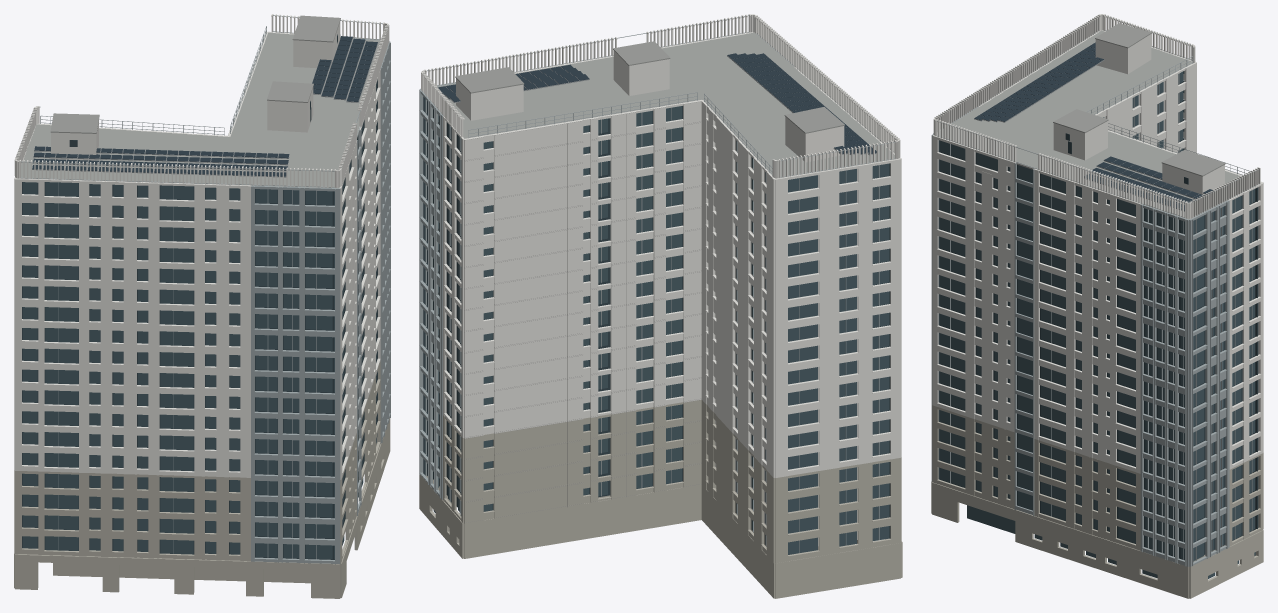
File: bespoke-maple-xi-203.glb
The picture shows the model from 3 angles, left to right: view 1: azimuth 30°, elevation 25°; view 2: azimuth 150°, elevation 25°; view 3: azimuth 270°, elevation 25°; orthographic projection. The views are drawn at different scales.
Visible parts, largest first — view 1: Maple203_203_inset_structural_body, Maple203_NE_plain_bedroom_glass, Maple203_203_ground_recessed_body, Maple203_NE_plain_bedroom_sash, Maple203_203_L_roof_slab, Maple203_NE_end_recess_back, Maple203_SW_long_PV_cells, Maple203_NW_core_horizontal_panel_joint, Maple203_SW_long_PV_frame; view 2: Maple203_203_inset_structural_body, Maple203_203_ground_recessed_body, Maple203_NE_plain_bedroom_glass, Maple203_203_L_roof_slab, Maple203_NE_plain_bedroom_sash, Maple203_NW_core_horizontal_panel_joint, Maple203_NE_end_recess_back, Maple203_SW_long_PV_cells; view 3: Maple203_203_inset_structural_body, Maple203_NE_plain_bedroom_glass, Maple203_NE_plain_bedroom_sash, Maple203_203_ground_recessed_body, Maple203_203_L_roof_slab, Maple203_NE_end_recess_back, Maple203_SW_long_PV_cells, Maple203_NW_core_horizontal_panel_joint, Maple203_SW_long_PV_frame.
Part boxes in pixels (box(x1,y1,x2,y2)): Maple203_203_inset_structural_body: box(14, 14, 389, 479); Maple203_NE_plain_bedroom_glass: box(22, 79, 377, 559); Maple203_203_ground_recessed_body: box(14, 361, 390, 598); Maple203_NE_plain_bedroom_sash: box(17, 15, 390, 564); Maple203_203_L_roof_slab: box(16, 32, 380, 188); Maple203_NE_end_recess_back: box(22, 34, 377, 559); Maple203_SW_long_PV_cells: box(32, 36, 377, 176); Maple203_NW_core_horizontal_panel_joint: box(50, 15, 340, 134); Maple203_SW_long_PV_frame: box(32, 34, 378, 177); Maple203_203_inset_structural_body: box(421, 14, 901, 546); Maple203_203_ground_recessed_body: box(419, 400, 902, 598); Maple203_NE_plain_bedroom_glass: box(427, 101, 889, 554); Maple203_203_L_roof_slab: box(437, 32, 899, 178); Maple203_NE_plain_bedroom_sash: box(419, 15, 897, 553); Maple203_NW_core_horizontal_panel_joint: box(455, 41, 844, 522); Maple203_NE_end_recess_back: box(423, 96, 890, 538); Maple203_SW_long_PV_cells: box(437, 53, 876, 154); Maple203_203_inset_structural_body: box(932, 14, 1263, 473); Maple203_NE_plain_bedroom_glass: box(939, 71, 1258, 578); Maple203_NE_plain_bedroom_sash: box(931, 15, 1258, 566); Maple203_203_ground_recessed_body: box(931, 405, 1263, 598); Maple203_203_L_roof_slab: box(934, 30, 1242, 219); Maple203_NE_end_recess_back: box(938, 133, 1257, 561); Maple203_SW_long_PV_cells: box(974, 42, 1213, 210); Maple203_NW_core_horizontal_panel_joint: box(1053, 23, 1225, 176); Maple203_SW_long_PV_frame: box(974, 59, 1205, 211).
Size of the model in its own units: 62.73 by 62.35 by 46.17.
